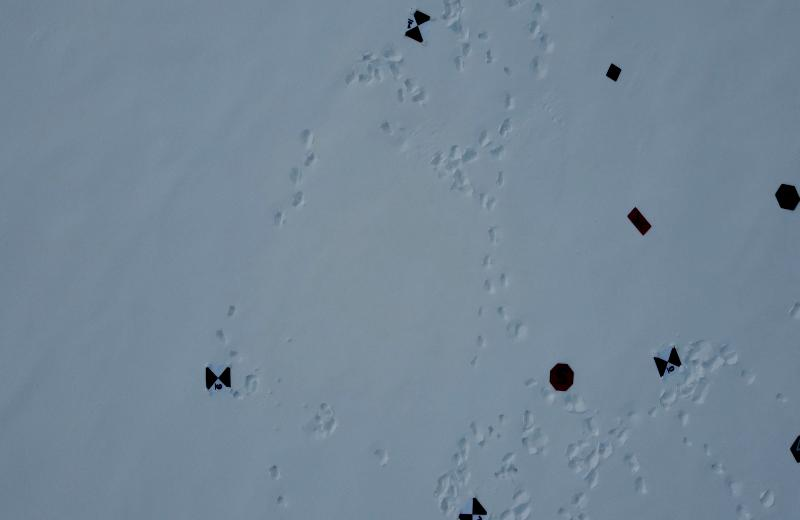Hexagon: (773, 179, 800, 215)
Octagon: (547, 360, 577, 395)
Rectangle: (627, 202, 652, 240)
Square: (603, 60, 626, 84)
